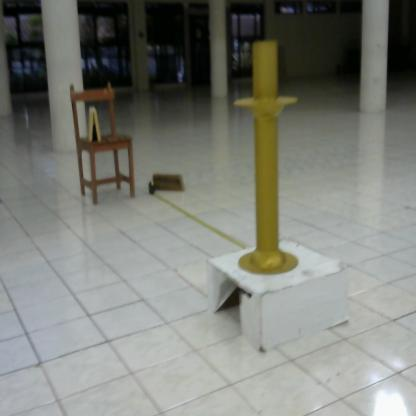pole: (227, 37, 305, 283)
